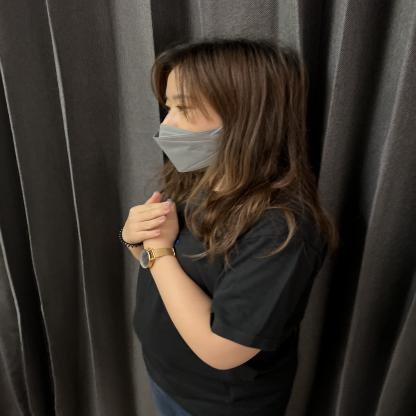Grieve: (86, 178, 208, 264)
